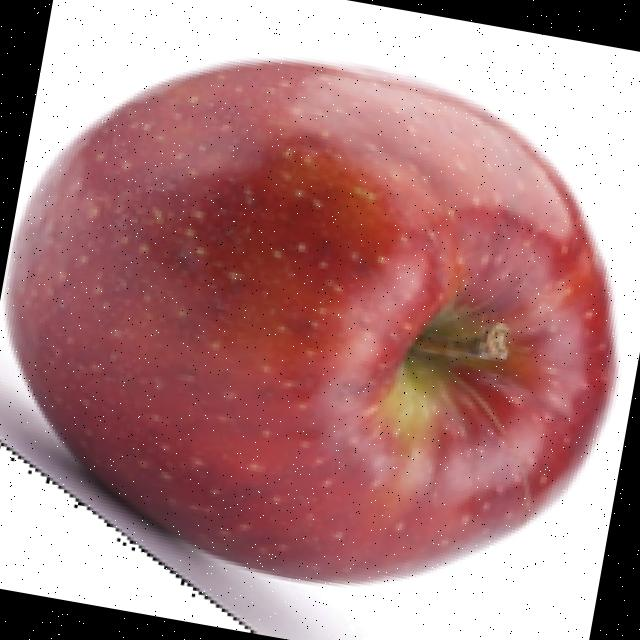apple: (0, 53, 624, 640)
